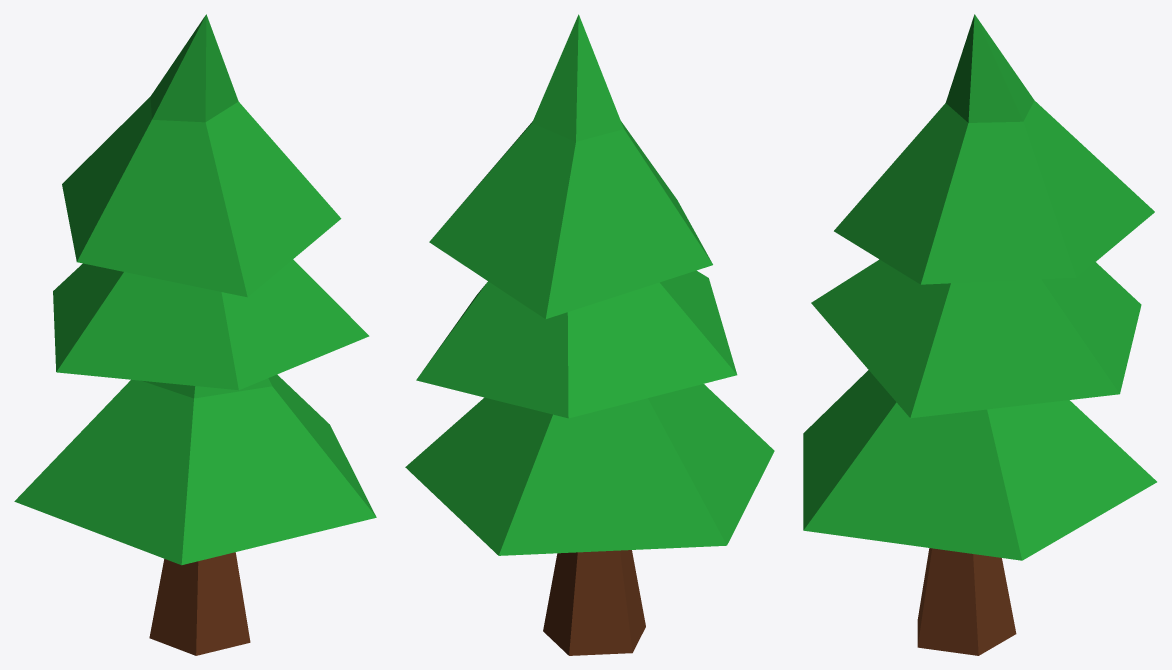
Rendered from Tree_1.fbx.
3 renders of one model, left to right at view 1: azimuth 30°, elevation 25°; view 2: azimuth 150°, elevation 25°; view 3: azimuth 270°, elevation 25°, orthographic. The views are drawn at different scales.
Visible parts, largest first — view 1: 円; view 2: 円; view 3: 円.
Boxes of the visible parts, x1=… form: 円: x1=14, y1=14, x2=376, y2=655; 円: x1=405, y1=14, x2=774, y2=655; 円: x1=803, y1=14, x2=1156, y2=655.
Bounding box in the file's own units: 342 × 633 × 325.
